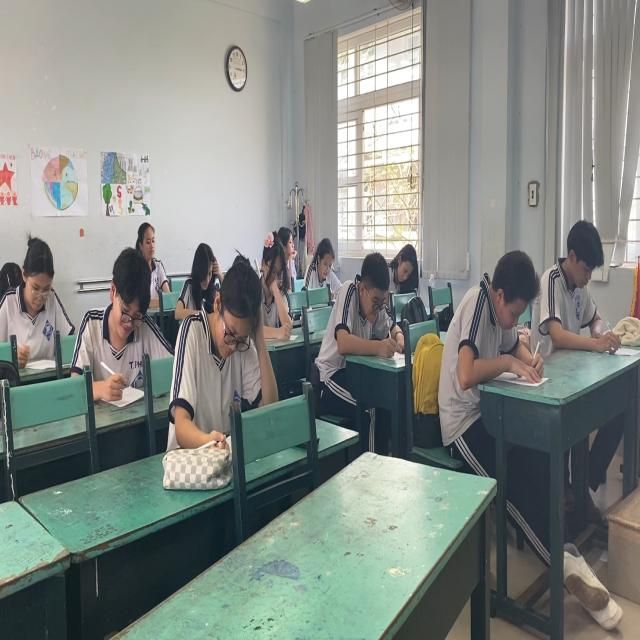not_cheating: (443, 268, 540, 430), (75, 250, 168, 374), (1, 222, 71, 354), (213, 257, 264, 416), (542, 215, 608, 329), (332, 261, 398, 367), (132, 215, 176, 308), (256, 233, 289, 329), (174, 243, 215, 305), (305, 222, 339, 294), (392, 240, 420, 298)
